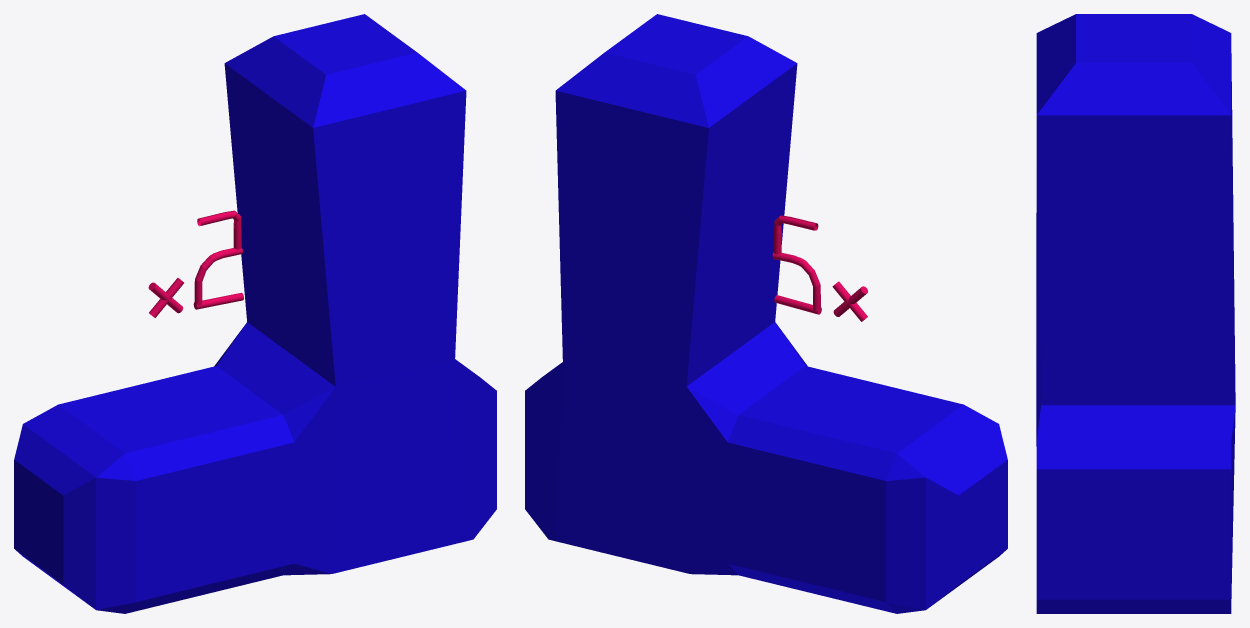
Rendered from Double_jump.fbx.
3 views of the same model, side by side, from view 1: azimuth 30°, elevation 25°; view 2: azimuth 150°, elevation 25°; view 3: azimuth 270°, elevation 25° (orthographic). The views are drawn at different scales.
Parts seen in each view (by area): view 1: Boot, 2; view 2: Boot, 2; view 3: Boot.
Boxes of the visible parts, <box> form: Boot: <box>14,14,496,613</box>; 2: <box>194,248,242,305</box>; Boot: <box>525,14,1007,613</box>; 2: <box>772,252,820,310</box>; Boot: <box>1036,14,1235,613</box>.
Size of the model in its own units: 540 by 602 by 205.
